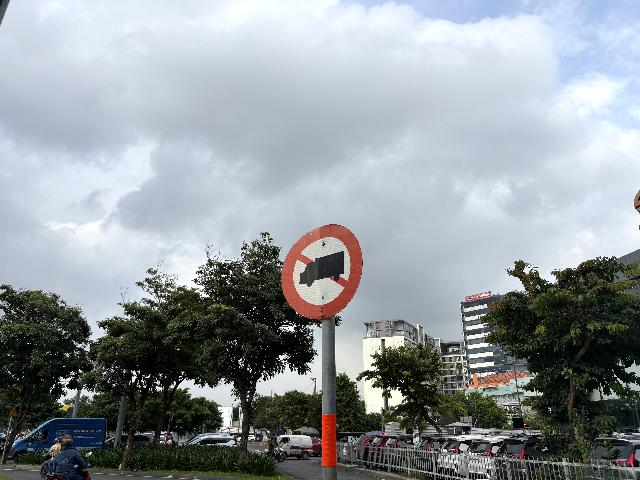cam-xe-tai: (282, 224, 362, 319)
